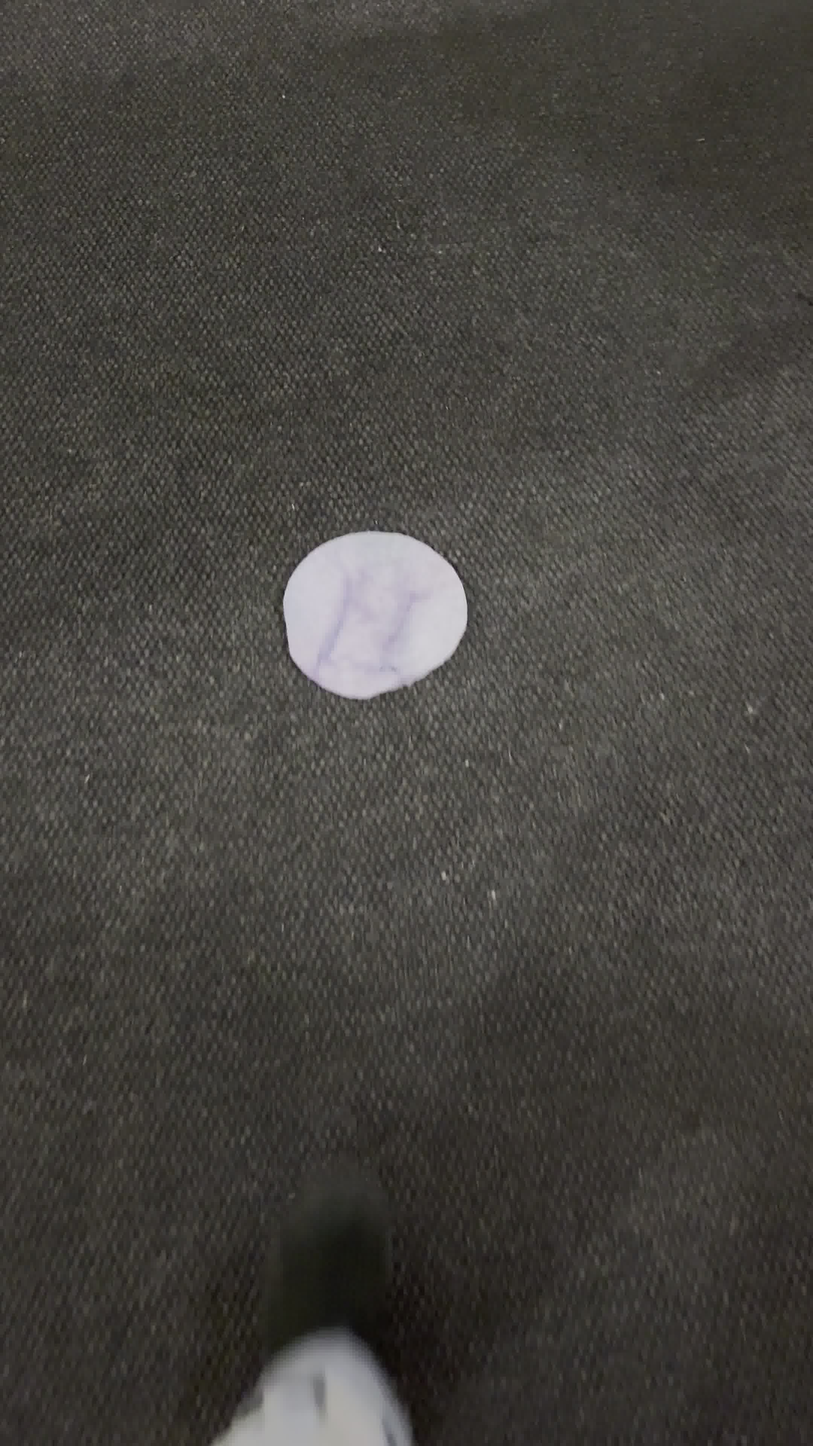Target: (282, 535, 465, 699)
